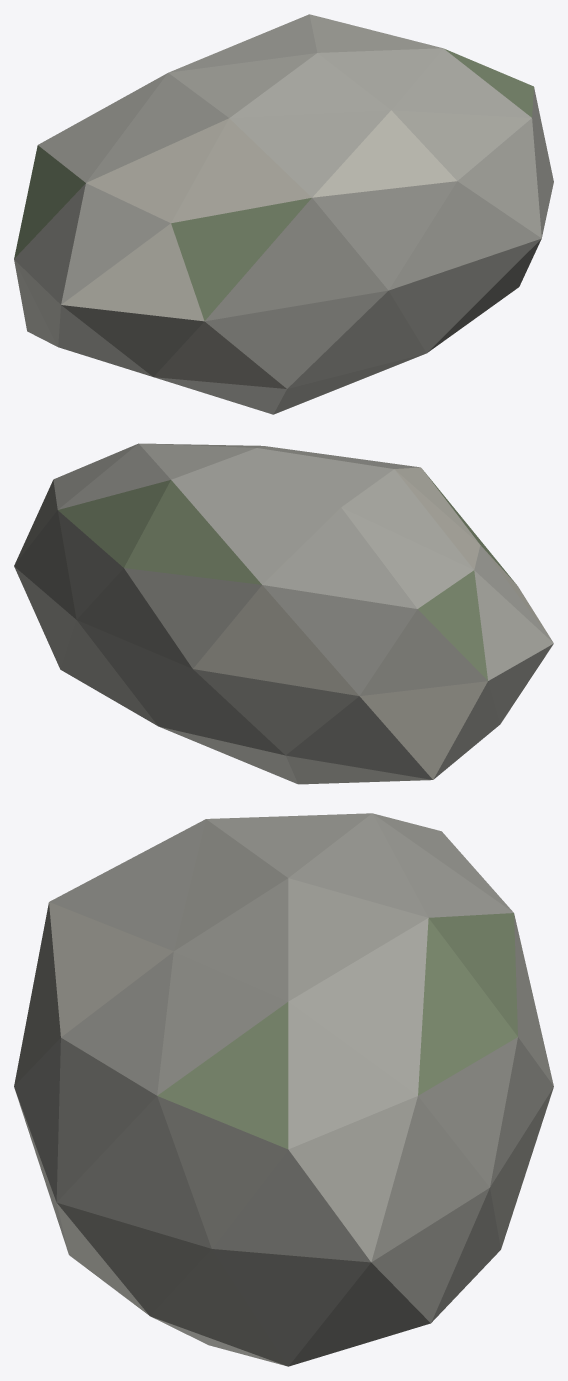
The model's file is coastal_rock.glb.
The picture shows the model from 3 angles, top to bottom: view 1: azimuth 30°, elevation 25°; view 2: azimuth 150°, elevation 25°; view 3: azimuth 270°, elevation 25°; orthographic projection. The views are drawn at different scales.
Parts seen in each view (by area): view 1: coastal_rock LOD0; view 2: coastal_rock LOD0; view 3: coastal_rock LOD0.
Boxes of the visible parts, <box> form: coastal_rock LOD0: <box>14,14,553,414</box>; coastal_rock LOD0: <box>14,443,553,784</box>; coastal_rock LOD0: <box>14,813,553,1366</box>.
Size of what is drawn, in the model's own units: 3.58 by 2.19 by 2.3.
